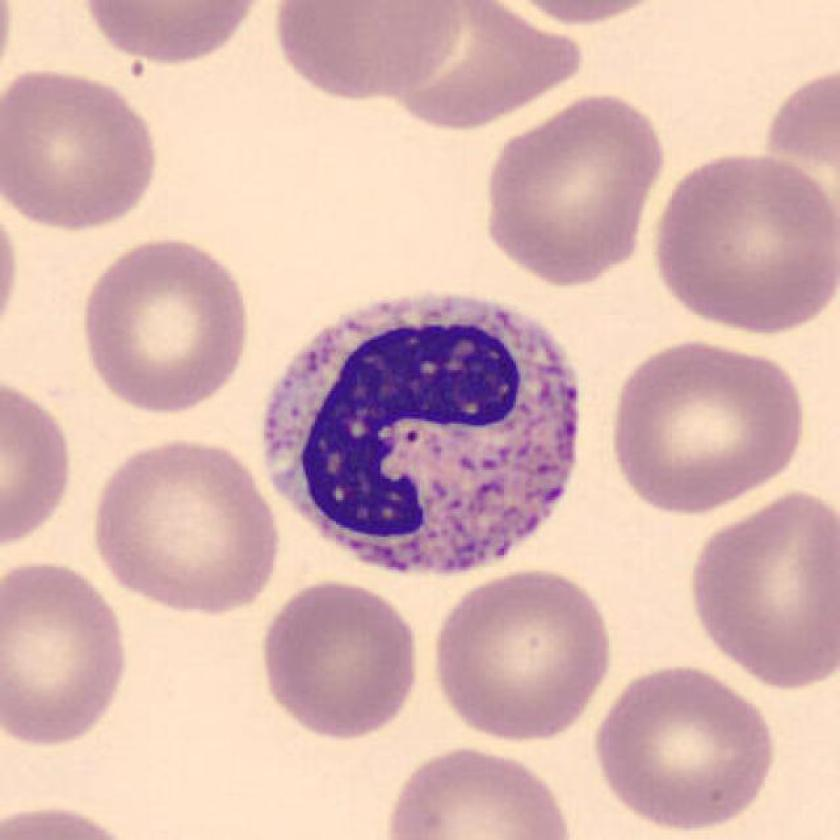neutrophil: (268, 295, 581, 575)
